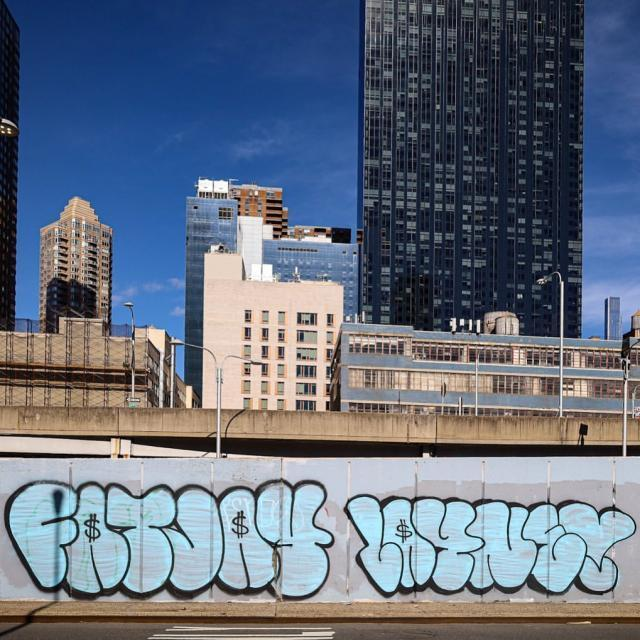-: (6, 462, 340, 602), (342, 479, 639, 603)
